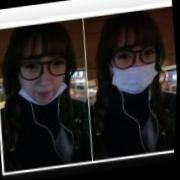WRONG: (105, 32, 164, 99), (17, 44, 70, 107)
